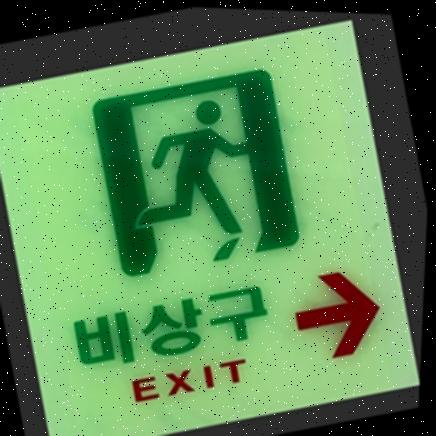emergency_exit: (1, 9, 427, 435)
